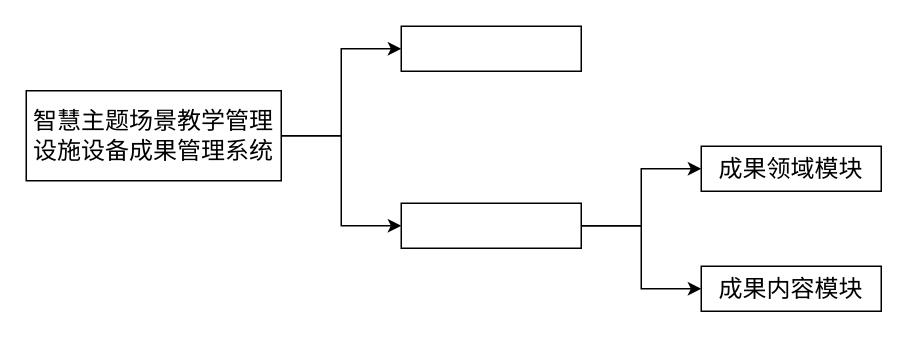
This 908x338 diagram has some shape labels left out. The centre of each missing label's shape, as x and y in pixels:
"基础服务模块" goes at point (490, 225).
"数据大屏模块" goes at point (490, 48).
